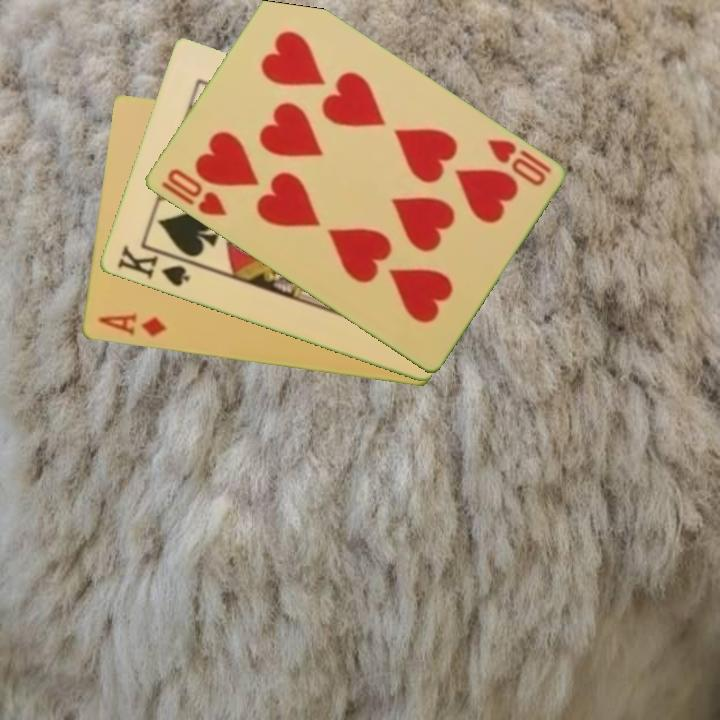10h: (482, 135, 554, 190), (163, 165, 229, 220)
Ad: (94, 309, 169, 340)
Ks: (113, 242, 196, 290)
